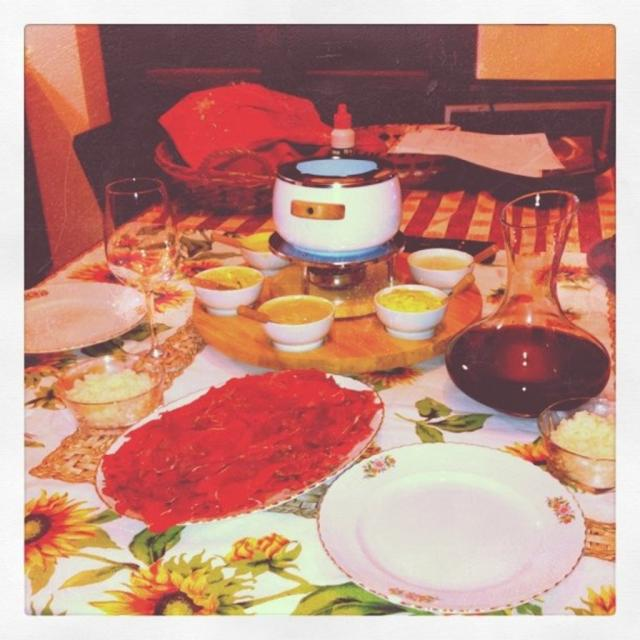non-organic waste: (77, 360, 390, 536), (300, 434, 597, 610), (16, 281, 158, 366)
